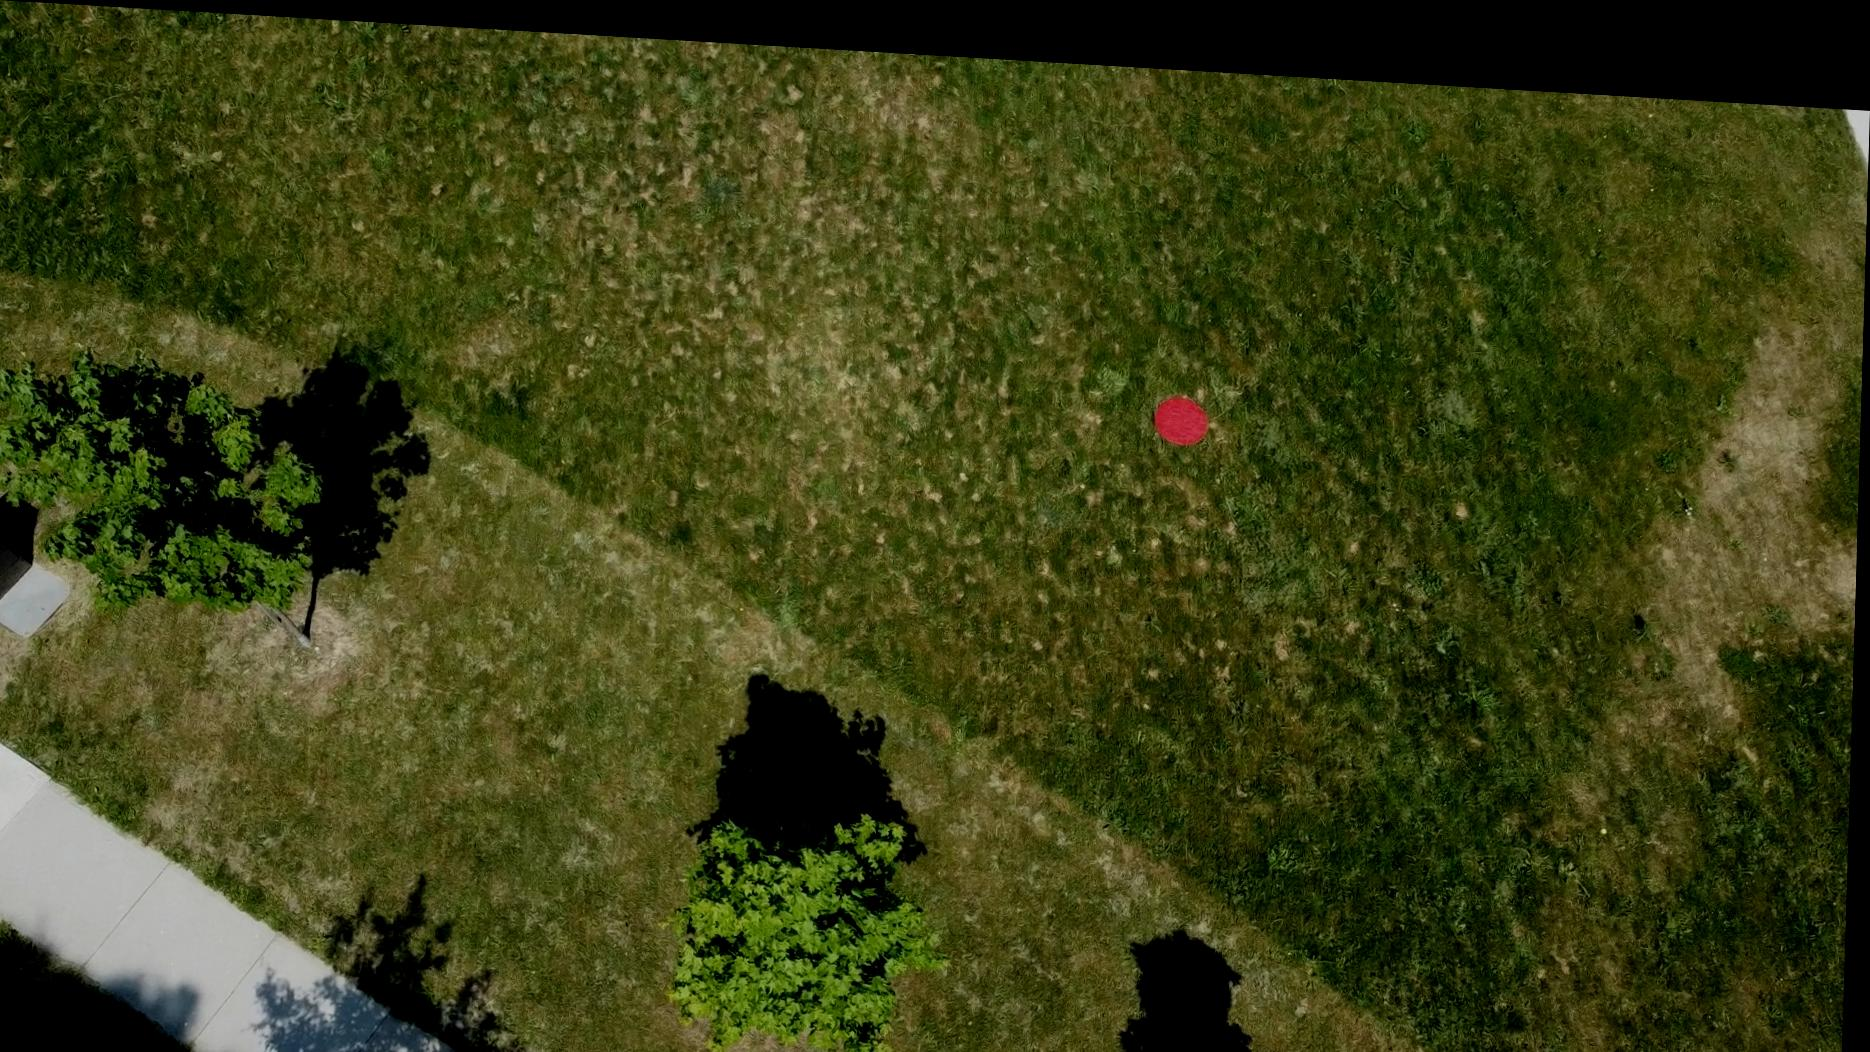Red: (1152, 378, 1214, 433)
